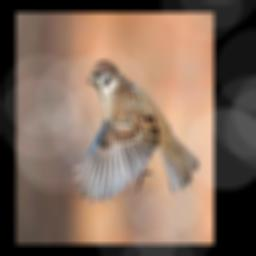Sparrow: (73, 60, 199, 202)
